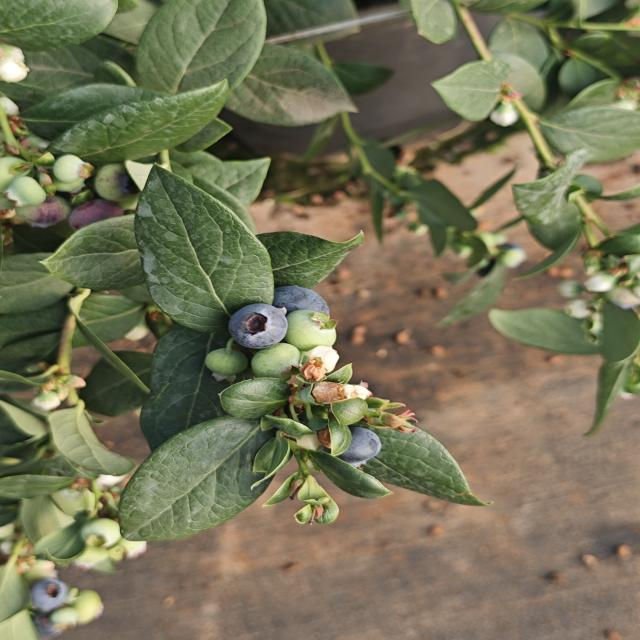ripe: (226, 298, 290, 344), (268, 286, 334, 322), (344, 426, 380, 467)
